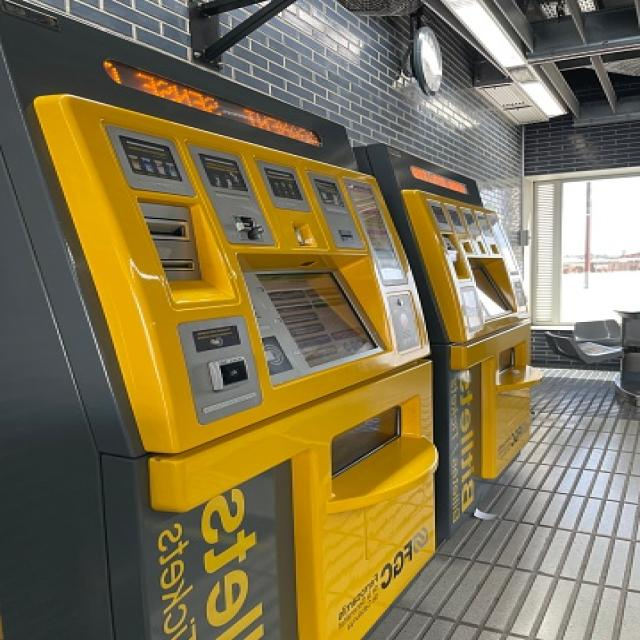tickets-maquina: (1, 2, 438, 640), (355, 144, 542, 539)
